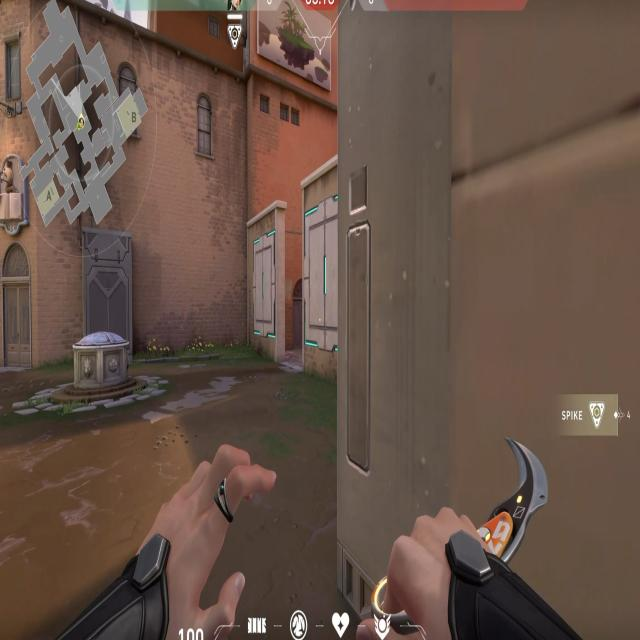Mid_Wall: (300, 154, 338, 384), (245, 201, 286, 359)
